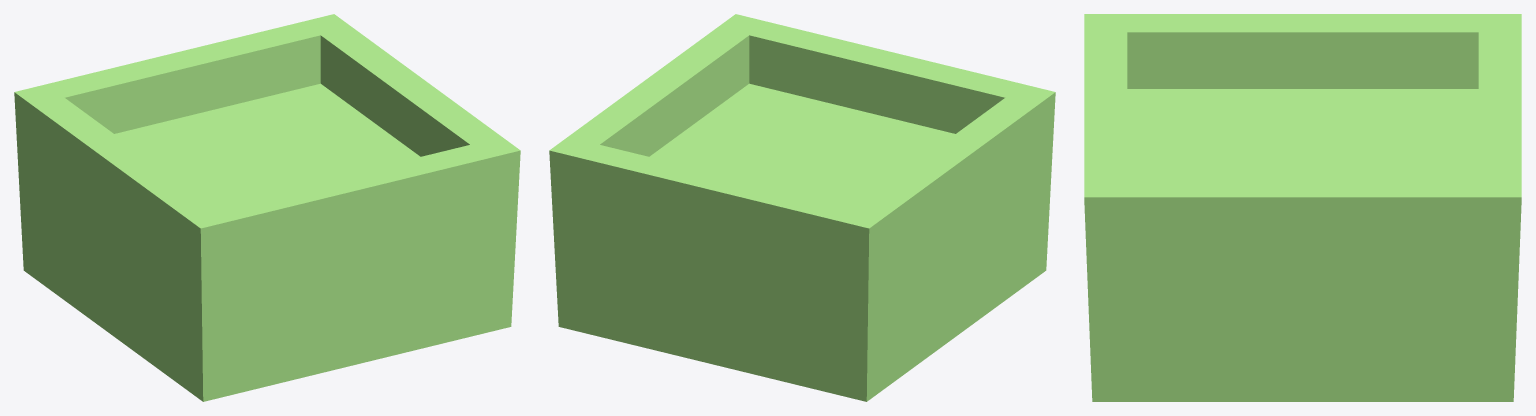
The model's file is Concrete_Stop_COL.FBX.
3 views of the same model, side by side, from view 1: azimuth 30°, elevation 25°; view 2: azimuth 150°, elevation 25°; view 3: azimuth 270°, elevation 25° (orthographic). The views are drawn at different scales.
Parts seen in each view (by area): view 1: Concrete_Stop_COL; view 2: Concrete_Stop_COL; view 3: Concrete_Stop_COL.
Boxes of the visible parts, <box> form: Concrete_Stop_COL: <box>14,14,520,401</box>; Concrete_Stop_COL: <box>549,14,1055,401</box>; Concrete_Stop_COL: <box>1084,14,1521,401</box>.
Size of the model in its own units: 70.16 by 37.17 by 70.82.
